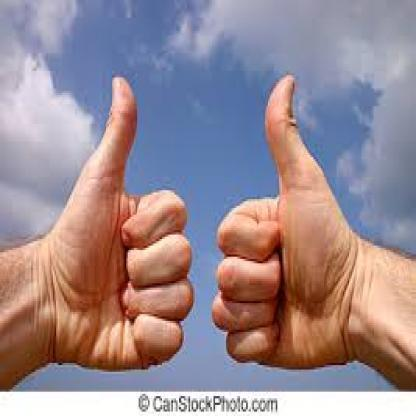thumb_up: (211, 68, 357, 371), (49, 68, 194, 373)
